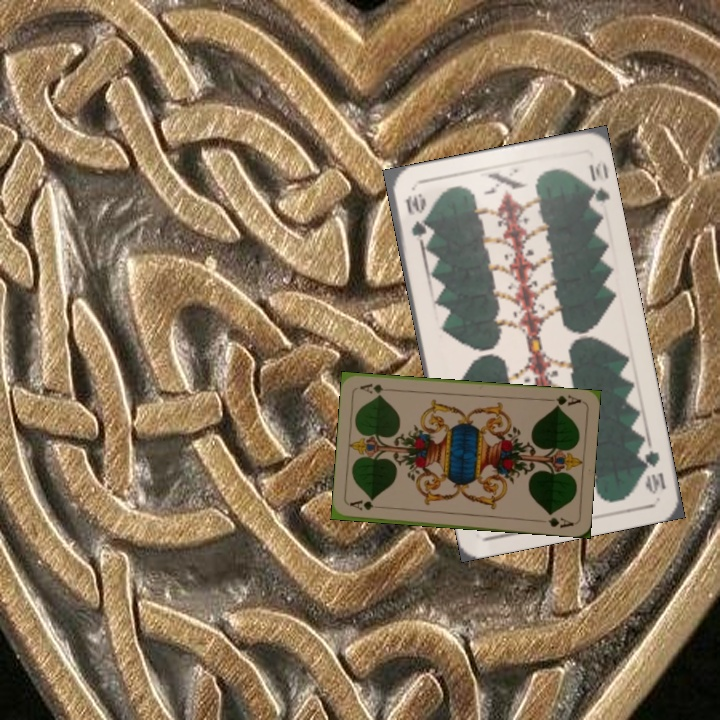G10: (635, 439, 669, 497), (401, 189, 432, 248)
GA: (543, 391, 584, 410), (346, 497, 387, 513)
